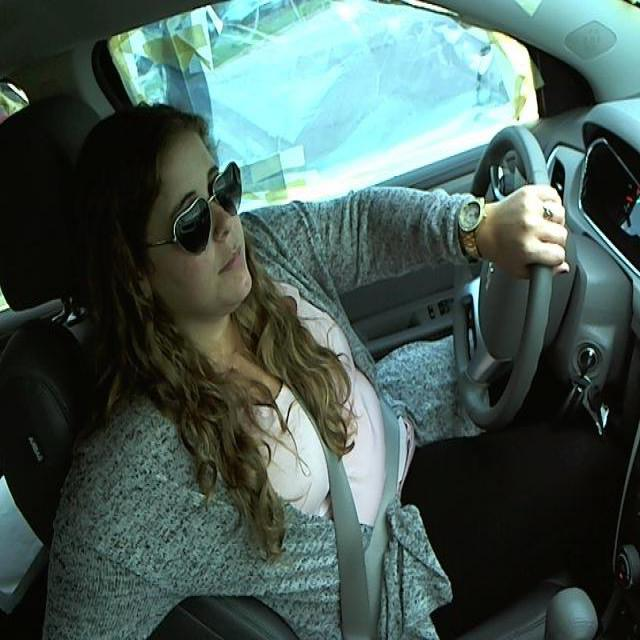seatbelt: (315, 391, 421, 638)
